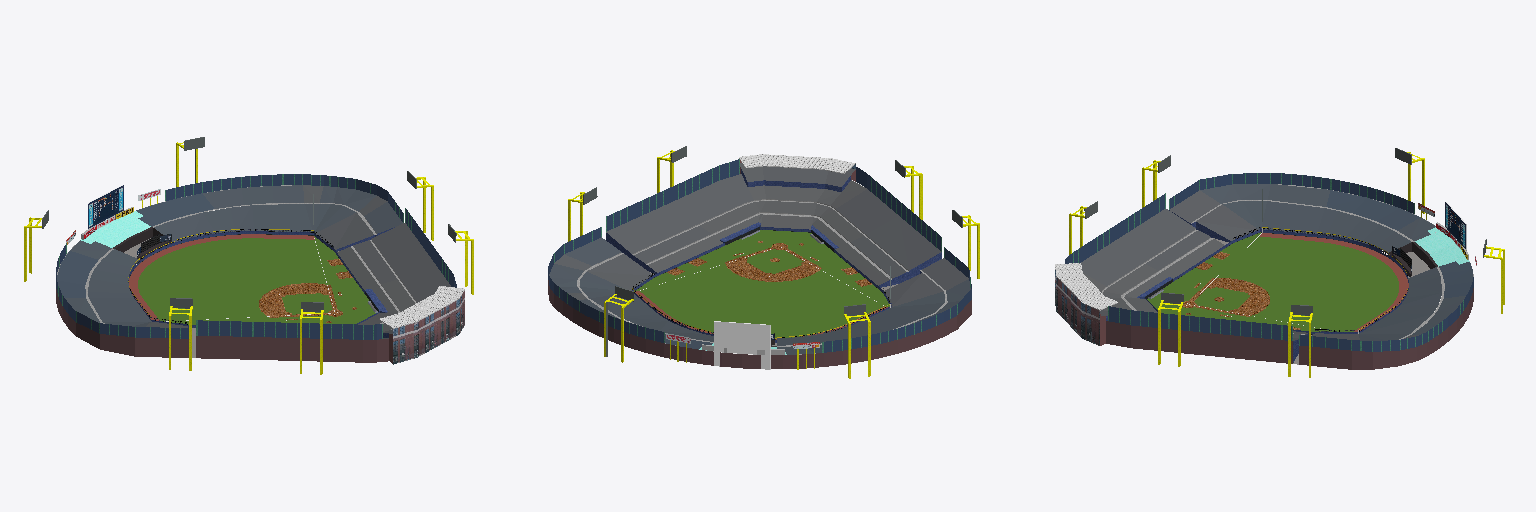
3 renders of one model, left to right at view 1: azimuth 30°, elevation 25°; view 2: azimuth 150°, elevation 25°; view 3: azimuth 270°, elevation 25°, orthographic.
Visible parts, largest first — view 1: Meiji_Jingu_Stadium_Main-field_grass2, Meiji_Jingu_Stadium_Main-seating_attendance2_blue, Meiji_Jingu_Stadium_Main-Material4, Meiji_Jingu_Stadium_Main-03, Meiji_Jingu_Stadium_Main-seating_attendance3_blue, Meiji_Jingu_Stadium_Main-seating_attendance1_blue, Meiji_Jingu_Stadium_Main-Material33, Meiji_Jingu_Stadium_Main-seating_attendance4_blue, Meiji_Jingu_Stadium_Main-Groundcover_Sand_Smooth1, Meiji_Jingu_Stadium_Main-Metal_Steel_Textured_White, Meiji_Jingu_Stadium_Main-Groundcover_Brick_Crushed, Meiji_Jingu_Stadium_Main-Metal_Aluminum_Anodized (+5 smaller); view 2: Meiji_Jingu_Stadium_Main-field_grass2, Meiji_Jingu_Stadium_Main-seating_attendance3_blue, Meiji_Jingu_Stadium_Main-seating_attendance2_blue, Meiji_Jingu_Stadium_Main-seating_attendance4_blue, Meiji_Jingu_Stadium_Main-Material4, Meiji_Jingu_Stadium_Main-03, Meiji_Jingu_Stadium_Main-Default_Material, Meiji_Jingu_Stadium_Main-Groundcover_Sand_Smooth1, Meiji_Jingu_Stadium_Main-Material6, Meiji_Jingu_Stadium_Main-Steel_Brushed_Stainless, Meiji_Jingu_Stadium_Main-Metal_Steel_Textured_White, Meiji_Jingu_Stadium_Main-Metal_Silver (+1 smaller); view 3: Meiji_Jingu_Stadium_Main-field_grass2, Meiji_Jingu_Stadium_Main-seating_attendance2_blue, Meiji_Jingu_Stadium_Main-Material4, Meiji_Jingu_Stadium_Main-03, Meiji_Jingu_Stadium_Main-seating_attendance3_blue, Meiji_Jingu_Stadium_Main-seating_attendance1_blue, Meiji_Jingu_Stadium_Main-seating_attendance4_blue, Meiji_Jingu_Stadium_Main-Material33, Meiji_Jingu_Stadium_Main-Groundcover_Sand_Smooth1, Meiji_Jingu_Stadium_Main-Metal_Steel_Textured_White, Meiji_Jingu_Stadium_Main-Groundcover_Brick_Crushed, Meiji_Jingu_Stadium_Main-Material6 (+4 smaller).
Boxes of the visible parts, x1=… form: Meiji_Jingu_Stadium_Main-field_grass2: x1=138, y1=236, x2=375, y2=324; Meiji_Jingu_Stadium_Main-seating_attendance2_blue: x1=65, y1=185, x2=402, y2=326; Meiji_Jingu_Stadium_Main-Material4: x1=56, y1=174, x2=456, y2=339; Meiji_Jingu_Stadium_Main-03: x1=56, y1=289, x2=388, y2=362; Meiji_Jingu_Stadium_Main-seating_attendance3_blue: x1=146, y1=185, x2=450, y2=333; Meiji_Jingu_Stadium_Main-seating_attendance1_blue: x1=57, y1=193, x2=213, y2=297; Meiji_Jingu_Stadium_Main-Material33: x1=393, y1=291, x2=464, y2=364; Meiji_Jingu_Stadium_Main-seating_attendance4_blue: x1=337, y1=247, x2=414, y2=338; Meiji_Jingu_Stadium_Main-Groundcover_Sand_Smooth1: x1=259, y1=259, x2=356, y2=322; Meiji_Jingu_Stadium_Main-Metal_Steel_Textured_White: x1=379, y1=286, x2=464, y2=328; Meiji_Jingu_Stadium_Main-Groundcover_Brick_Crushed: x1=129, y1=234, x2=314, y2=320; Meiji_Jingu_Stadium_Main-Metal_Aluminum_Anodized: x1=81, y1=211, x2=150, y2=247; Meiji_Jingu_Stadium_Main-field_grass2: x1=634, y1=230, x2=889, y2=337; Meiji_Jingu_Stadium_Main-seating_attendance3_blue: x1=554, y1=163, x2=968, y2=306; Meiji_Jingu_Stadium_Main-seating_attendance2_blue: x1=549, y1=237, x2=970, y2=354; Meiji_Jingu_Stadium_Main-seating_attendance4_blue: x1=648, y1=180, x2=889, y2=285; Meiji_Jingu_Stadium_Main-Material4: x1=548, y1=159, x2=971, y2=352; Meiji_Jingu_Stadium_Main-03: x1=548, y1=280, x2=971, y2=368; Meiji_Jingu_Stadium_Main-Default_Material: x1=624, y1=180, x2=863, y2=369; Meiji_Jingu_Stadium_Main-Groundcover_Sand_Smooth1: x1=667, y1=241, x2=871, y2=286; Meiji_Jingu_Stadium_Main-Material6: x1=577, y1=199, x2=947, y2=354; Meiji_Jingu_Stadium_Main-Steel_Brushed_Stainless: x1=606, y1=169, x2=941, y2=287; Meiji_Jingu_Stadium_Main-Metal_Steel_Textured_White: x1=739, y1=154, x2=855, y2=173; Meiji_Jingu_Stadium_Main-Metal_Silver: x1=554, y1=159, x2=970, y2=352; Meiji_Jingu_Stadium_Main-field_grass2: x1=1147, y1=232, x2=1398, y2=331; Meiji_Jingu_Stadium_Main-seating_attendance2_blue: x1=1200, y1=184, x2=1465, y2=340; Meiji_Jingu_Stadium_Main-Material4: x1=1065, y1=173, x2=1473, y2=351; Meiji_Jingu_Stadium_Main-03: x1=1106, y1=288, x2=1473, y2=369; Meiji_Jingu_Stadium_Main-seating_attendance3_blue: x1=1081, y1=190, x2=1418, y2=340; Meiji_Jingu_Stadium_Main-seating_attendance1_blue: x1=1326, y1=190, x2=1472, y2=298; Meiji_Jingu_Stadium_Main-seating_attendance4_blue: x1=1083, y1=239, x2=1307, y2=334; Meiji_Jingu_Stadium_Main-Material33: x1=1055, y1=270, x2=1099, y2=345; Meiji_Jingu_Stadium_Main-Groundcover_Sand_Smooth1: x1=1182, y1=252, x2=1300, y2=329; Meiji_Jingu_Stadium_Main-Metal_Steel_Textured_White: x1=1055, y1=263, x2=1118, y2=310; Meiji_Jingu_Stadium_Main-Groundcover_Brick_Crushed: x1=1260, y1=233, x2=1408, y2=331; Meiji_Jingu_Stadium_Main-Material6: x1=1102, y1=184, x2=1473, y2=339.
Size of the model in its own units: 232 by 38.59 by 245.
Materials: 46 (22 with a texture image).